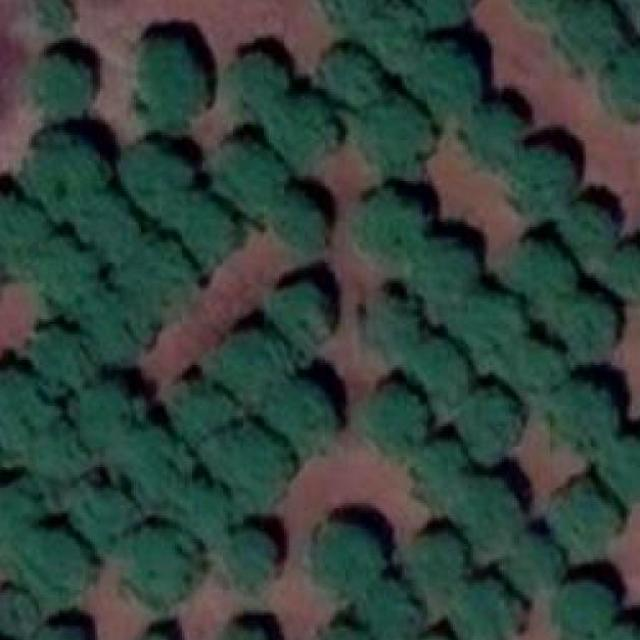Tree: (136, 32, 213, 126), (116, 527, 198, 605), (214, 322, 296, 399), (26, 138, 105, 213), (358, 94, 432, 170), (221, 426, 291, 504), (81, 382, 154, 454), (316, 521, 389, 591), (174, 370, 243, 444), (125, 256, 199, 325), (263, 380, 337, 448), (405, 237, 478, 305), (123, 429, 192, 499), (508, 237, 573, 310), (355, 188, 419, 262), (23, 534, 90, 604), (554, 293, 622, 361), (416, 43, 484, 110), (455, 291, 521, 360), (128, 143, 194, 211), (221, 138, 286, 206), (273, 281, 337, 350), (77, 296, 141, 364), (367, 391, 432, 457), (175, 191, 238, 257), (72, 481, 133, 549), (280, 92, 339, 162), (408, 534, 473, 597), (549, 383, 616, 444), (460, 579, 527, 640), (454, 482, 516, 546), (559, 483, 620, 548), (557, 579, 622, 640), (551, 0, 619, 58), (36, 429, 97, 493), (503, 525, 565, 586), (31, 332, 92, 394), (228, 50, 289, 111), (411, 346, 473, 406), (0, 370, 47, 448), (176, 479, 236, 540), (416, 444, 479, 502), (30, 58, 90, 118), (365, 293, 427, 351), (515, 150, 574, 210), (459, 396, 517, 457), (510, 344, 566, 407), (0, 199, 49, 271), (38, 244, 95, 305), (219, 532, 279, 589), (363, 5, 424, 61), (467, 104, 525, 162), (83, 200, 143, 256), (371, 585, 431, 640), (274, 190, 330, 246), (0, 478, 39, 557), (324, 51, 381, 101), (564, 204, 616, 256), (603, 436, 640, 499), (603, 55, 640, 116), (412, 0, 475, 33), (0, 592, 39, 640), (607, 246, 640, 300), (330, 0, 371, 34), (33, 620, 91, 640), (214, 623, 277, 640), (315, 625, 377, 640), (598, 620, 640, 640), (136, 633, 182, 640), (414, 636, 475, 640)
